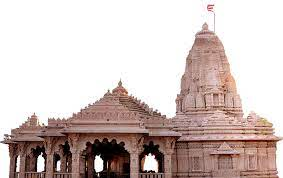Temple: (3, 22, 281, 169)
